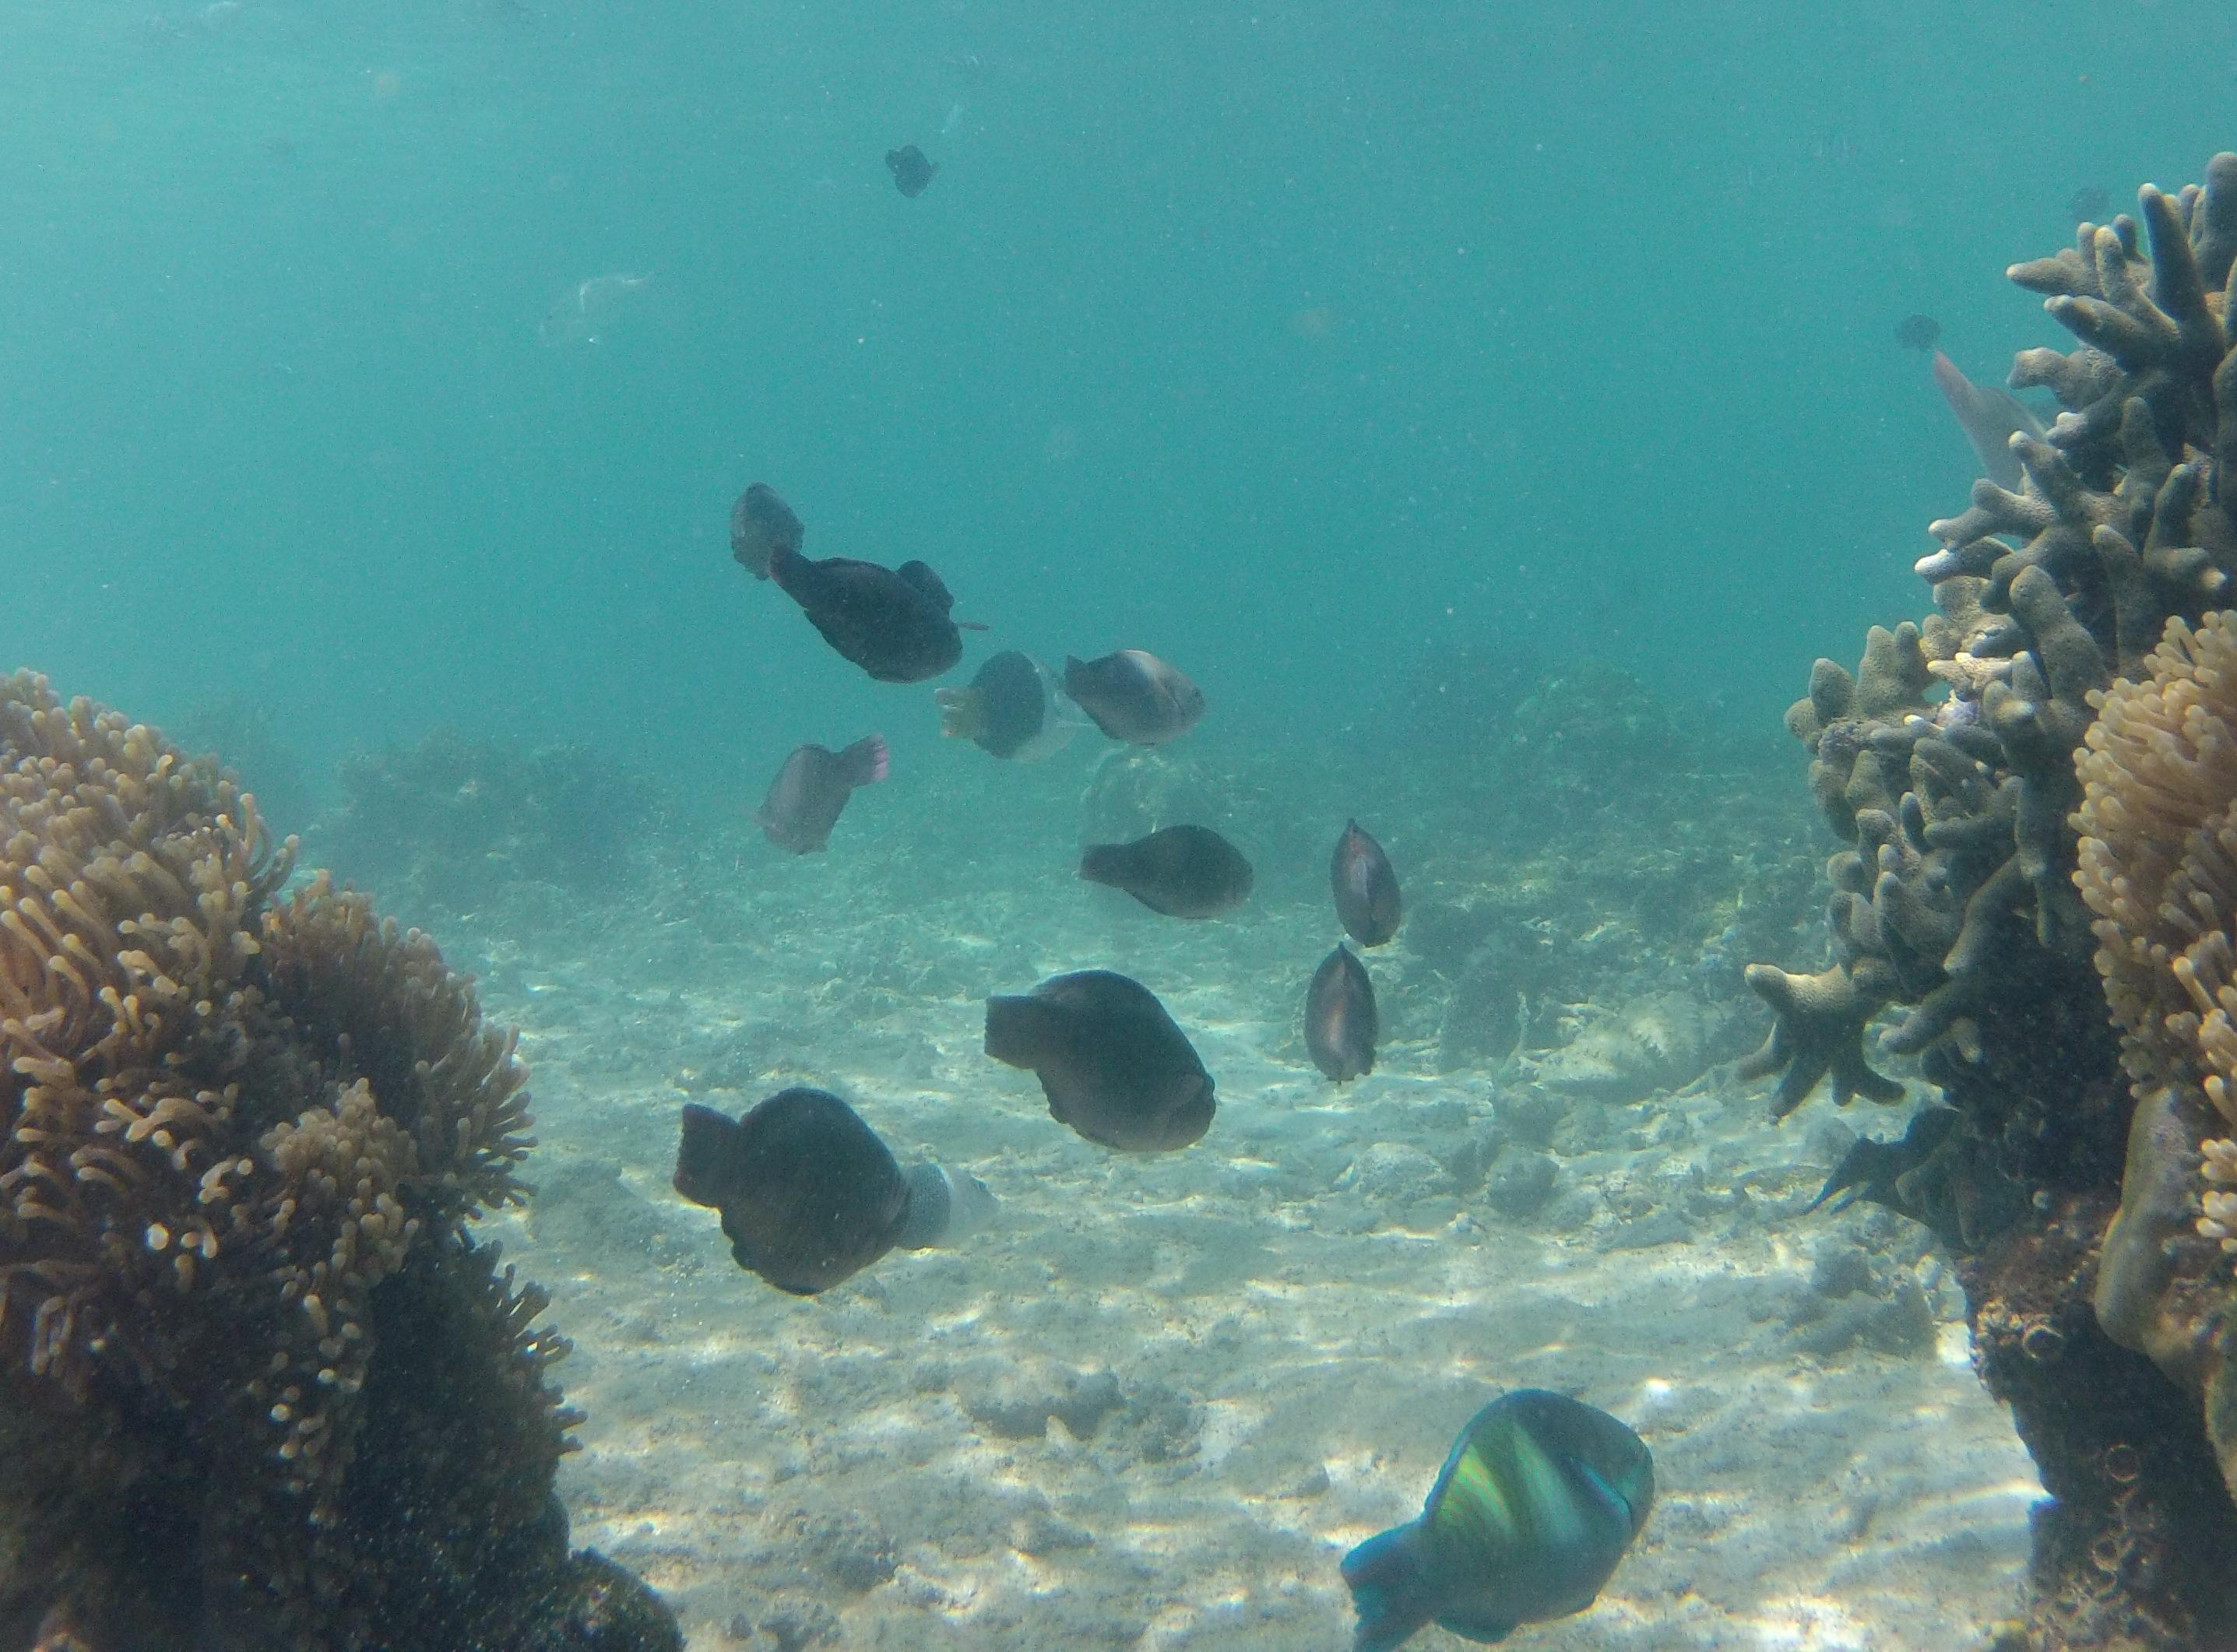Scarus ghobban: (1243, 1376, 1694, 1652)
